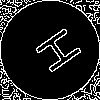H: (25, 25, 84, 81)
